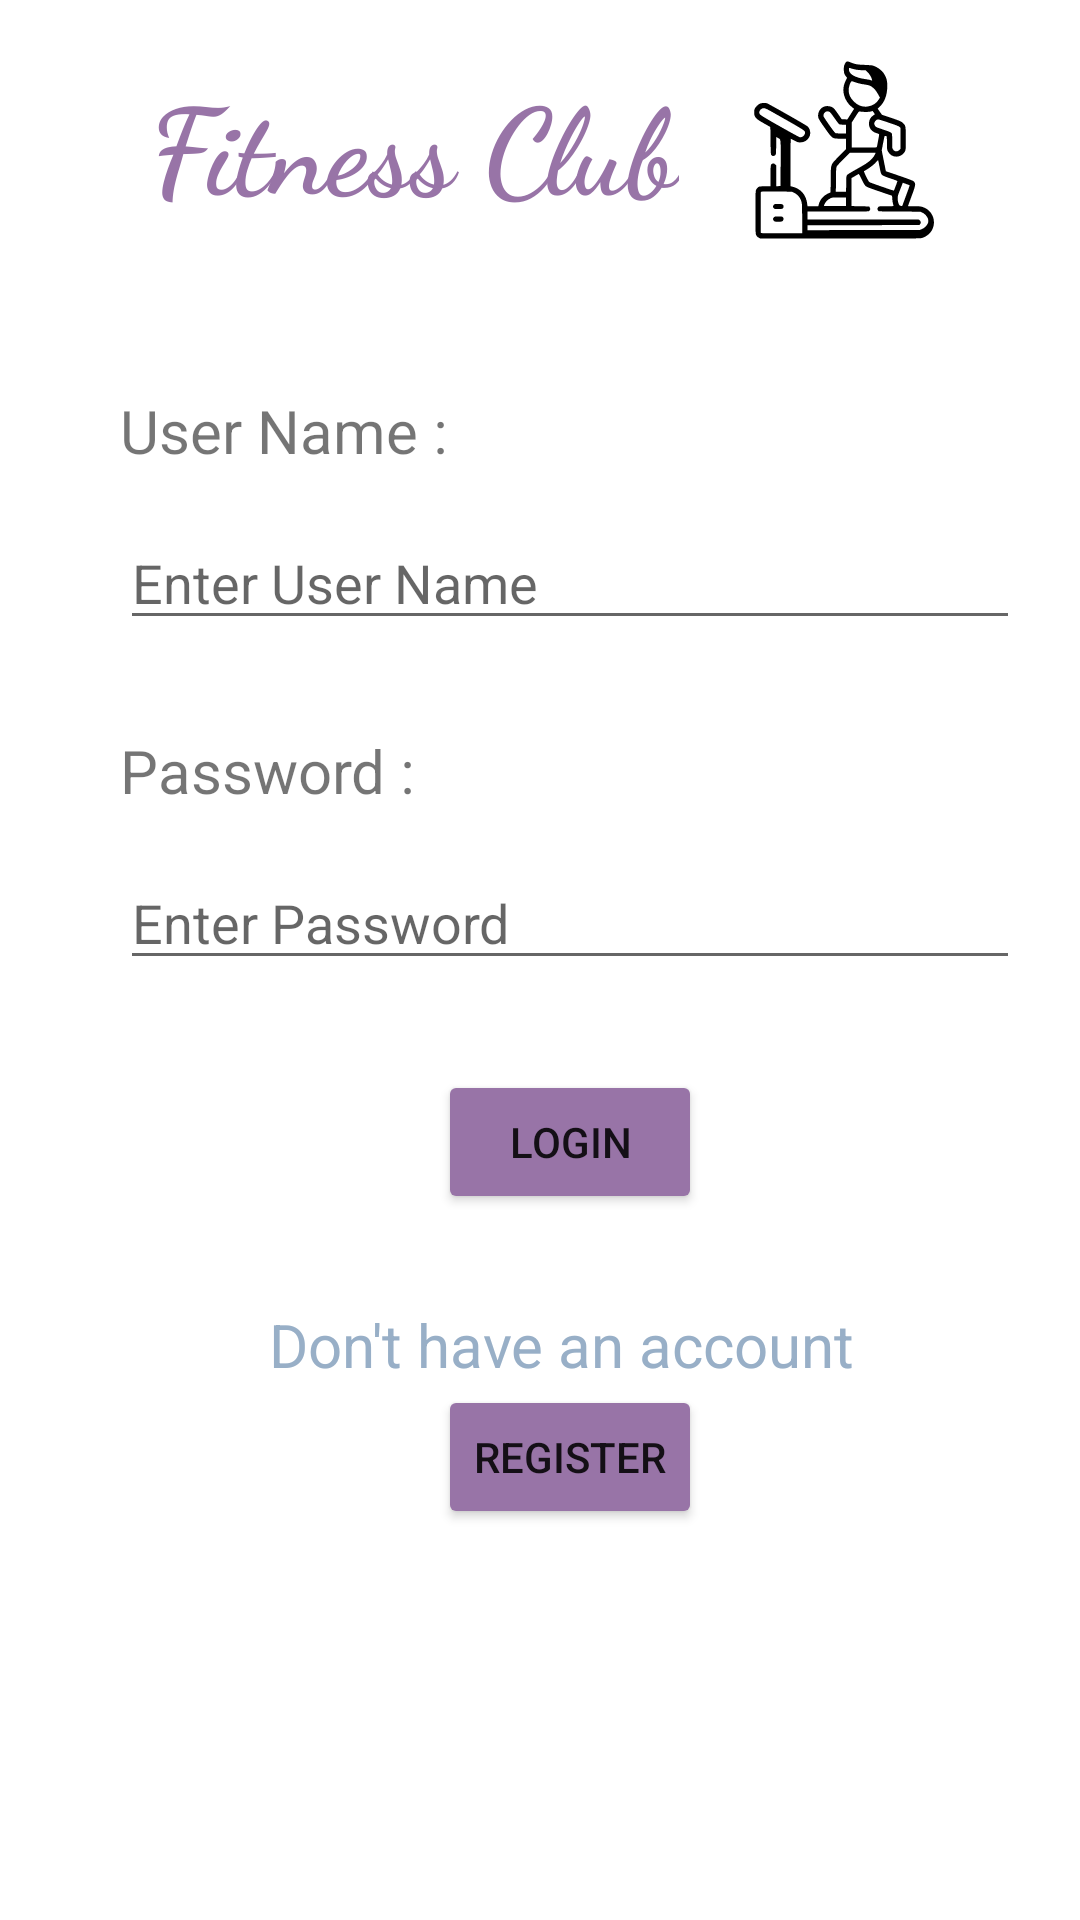

Screen size 1080px x 1920px. Icon name, then its center in pixels as (x=x, y=y):
treadmill: (x=844, y=150)
